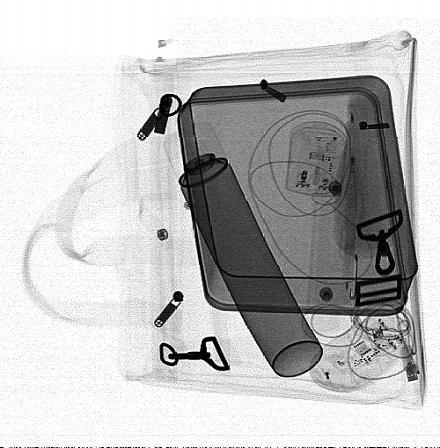Sprayer: (163, 121, 323, 378)
